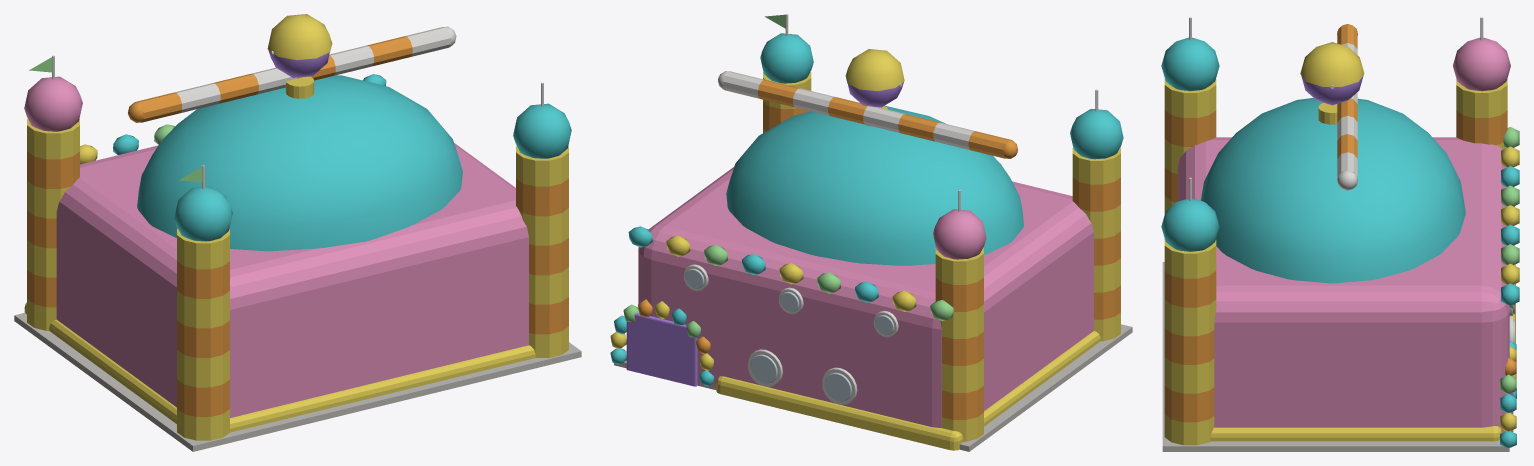
File: centro-gincana-c4149b4b.glb
3 renders of one model, left to right at view 1: azimuth 30°, elevation 25°; view 2: azimuth 150°, elevation 25°; view 3: azimuth 270°, elevation 25°, orthographic. The views are drawn at different scales.
Parts seen in each view (by area): view 1: centro_gincana_body; view 2: centro_gincana_body; view 3: centro_gincana_body.
Boxes of the visible parts, x1,y1,x2,y2 form: centro_gincana_body: [14, 14, 581, 451]; centro_gincana_body: [610, 14, 1132, 451]; centro_gincana_body: [1161, 17, 1519, 451].
Bounding box in the file's own units: 17.36 × 13.72 × 14.14.
